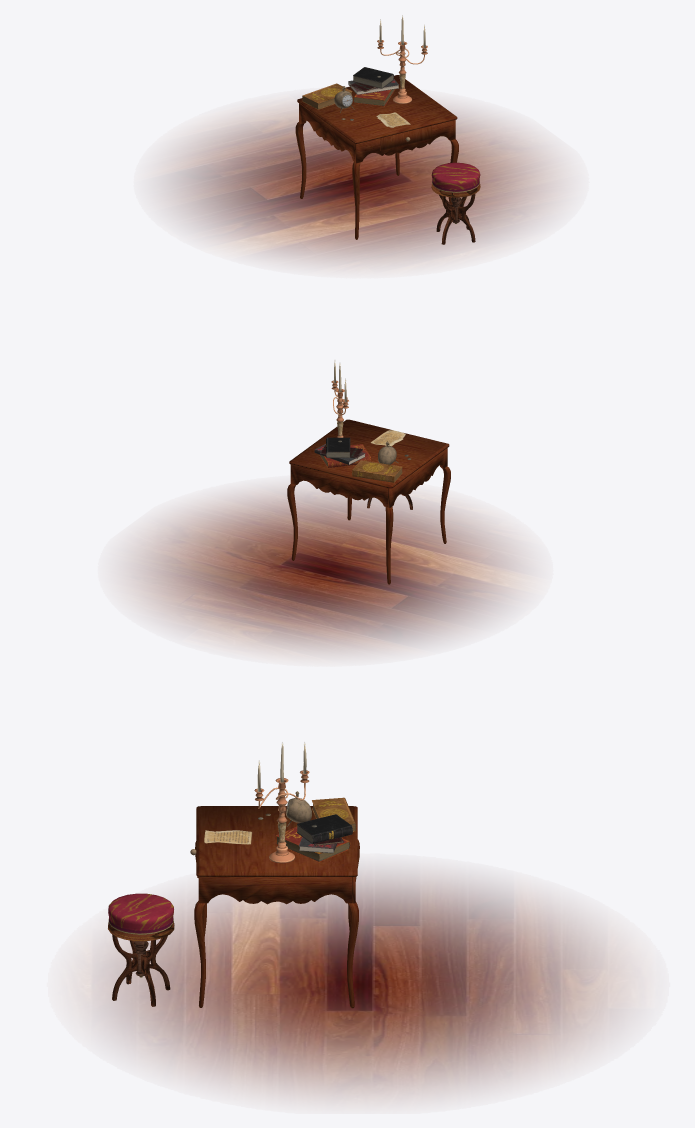
File: vict_small_antique_table_asset.glb
3 renders of one model, top to bottom at view 1: azimuth 30°, elevation 25°; view 2: azimuth 150°, elevation 25°; view 3: azimuth 270°, elevation 25°, orthographic. The views are drawn at different scales.
Parts seen in each view (by area): view 1: book1_low001_BooksWhNames_0; view 2: book1_low001_BooksWhNames_0; view 3: book1_low001_BooksWhNames_0.
Boxes of the visible parts, x1,y1,x2,y2 form: book1_low001_BooksWhNames_0: (169, 15, 553, 263); book1_low001_BooksWhNames_0: (133, 360, 517, 651); book1_low001_BooksWhNames_0: (96, 742, 620, 1095).
Size of the model in its own units: 0.9 by 0.3756 by 0.9.
9 materials, 9 textured.
